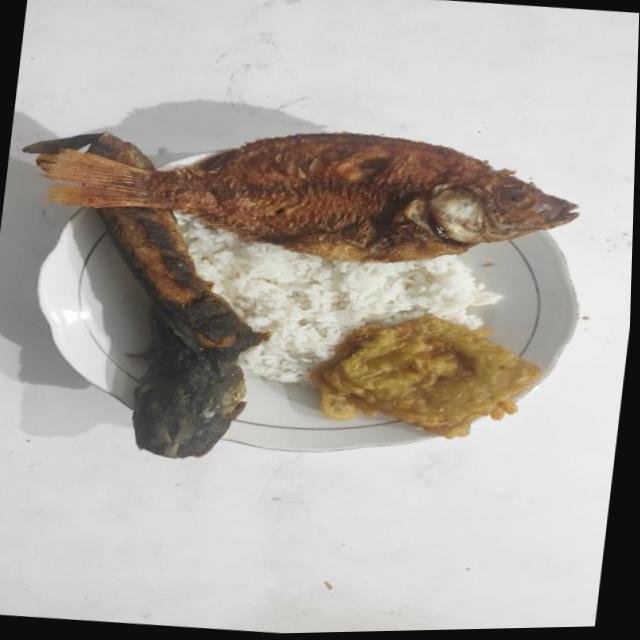ikan_mujair: (36, 132, 577, 262)
nasi_putih: (175, 214, 501, 382)
